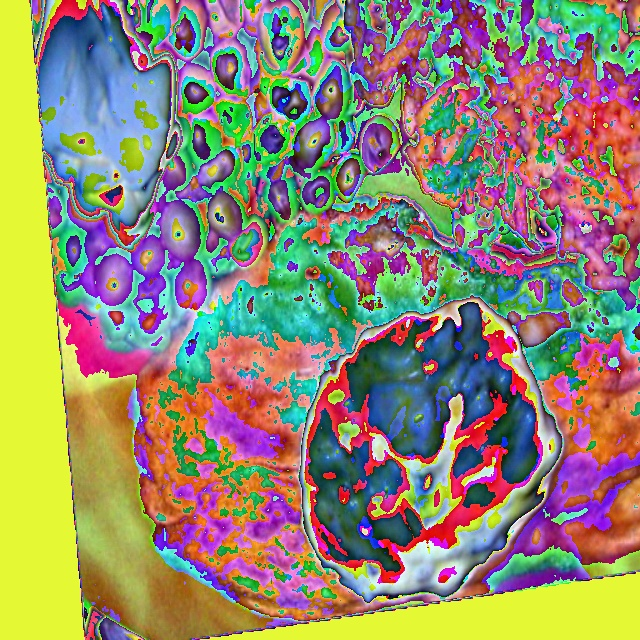background: (32, 0, 639, 624)
